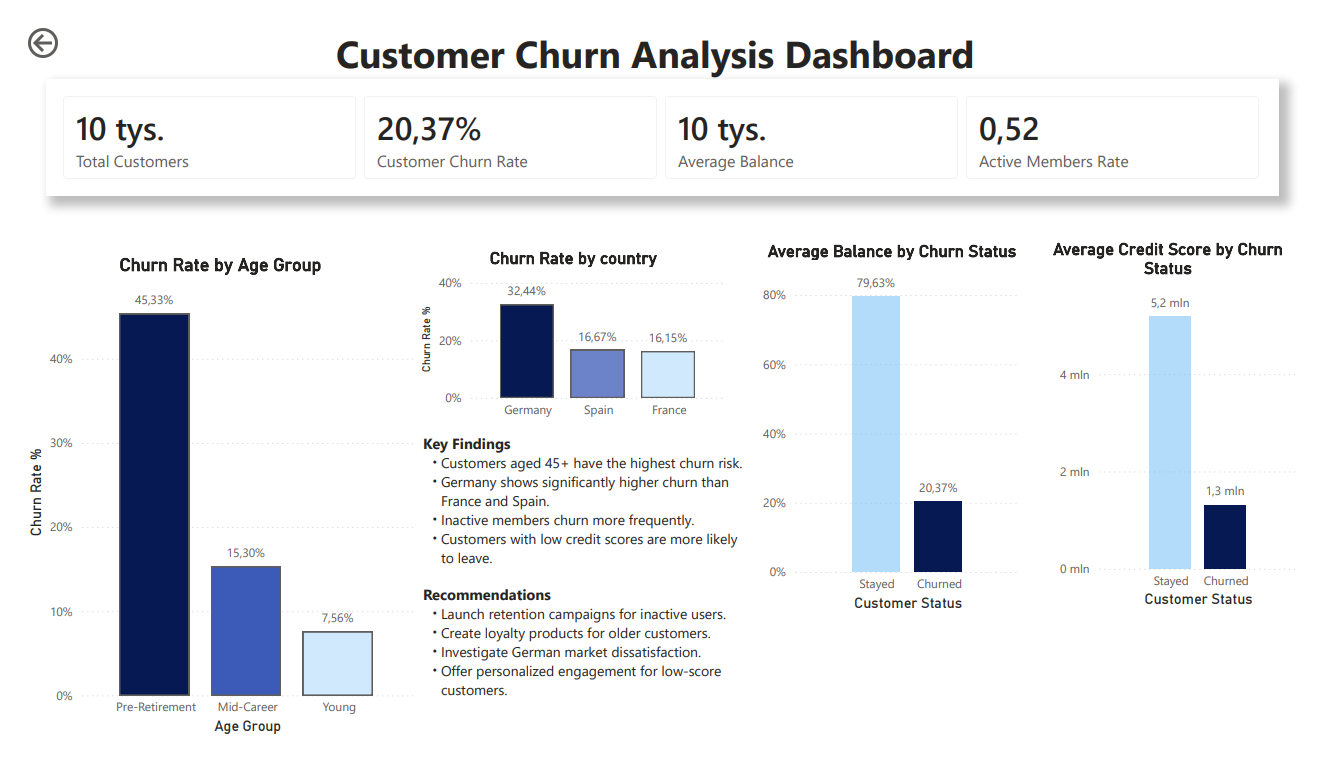

This screenshot's page, from the dashboard's own definition file:
{"tool":"powerbi","page":{"name":"Executive Overview","canvas":[1280,720],"ordinal":0},"visuals":[{"type":"actionButton","box":[0,0,100,40],"z":0},{"type":"columnChart","title":"Churn Rate by Age Group","fields":{"Category":["gjensidige_dane.Age Group"],"Y":["gjensidige_dane.Churn Rate %"]},"box":[0,231.2,395,485],"z":1000},{"type":"textbox","box":[307.5,0,815,70],"z":2000},{"type":"columnChart","title":"Churn Rate by country","fields":{"Category":["gjensidige_dane.country"],"Y":["gjensidige_dane.Churn Rate %"]},"box":[392.5,225,315,180],"z":3000},{"type":"columnChart","title":"Average Balance by Churn Status","fields":{"Category":["gjensidige_dane.Customer Status"],"Y":["CountNonNull(gjensidige_dane.balance)"]},"box":[735,218.3,268.3,375],"z":5000},{"type":"columnChart","title":"Average Credit Score by Churn Status","fields":{"Y":["Sum(gjensidige_dane.credit_score)"],"Category":["gjensidige_dane.Customer Status"]},"box":[1010,216.2,270,373.8],"z":6000},{"type":"cardVisual","fields":{"Data":["gjensidige_dane.Total Customers","gjensidige_dane.Churn Rate %","CountNonNull(gjensidige_dane.Average Balance)","Sum(gjensidige_dane.Active Members %)"]},"box":[22.5,56.2,1233.8,116.2],"z":8000},{"type":"textbox","box":[395,405,340,315],"z":9000}]}

Visuals, with their boxes in screenshot pixels (x1, y1, x2, y2), scaled from the page's 1280x720 canvas onto the 1322x761 screenshot:
actionButton: (0, 0, 103, 42)
"Churn Rate by Age Group" columnChart: (0, 244, 408, 757)
textbox: (318, 0, 1159, 74)
"Churn Rate by country" columnChart: (405, 238, 731, 428)
"Average Balance by Churn Status" columnChart: (759, 231, 1036, 627)
"Average Credit Score by Churn Status" columnChart: (1043, 229, 1321, 624)
cardVisual - gjensidige_dane.Total Customers x gjensidige_dane.Churn Rate %: (23, 59, 1298, 182)
textbox: (408, 428, 759, 760)
